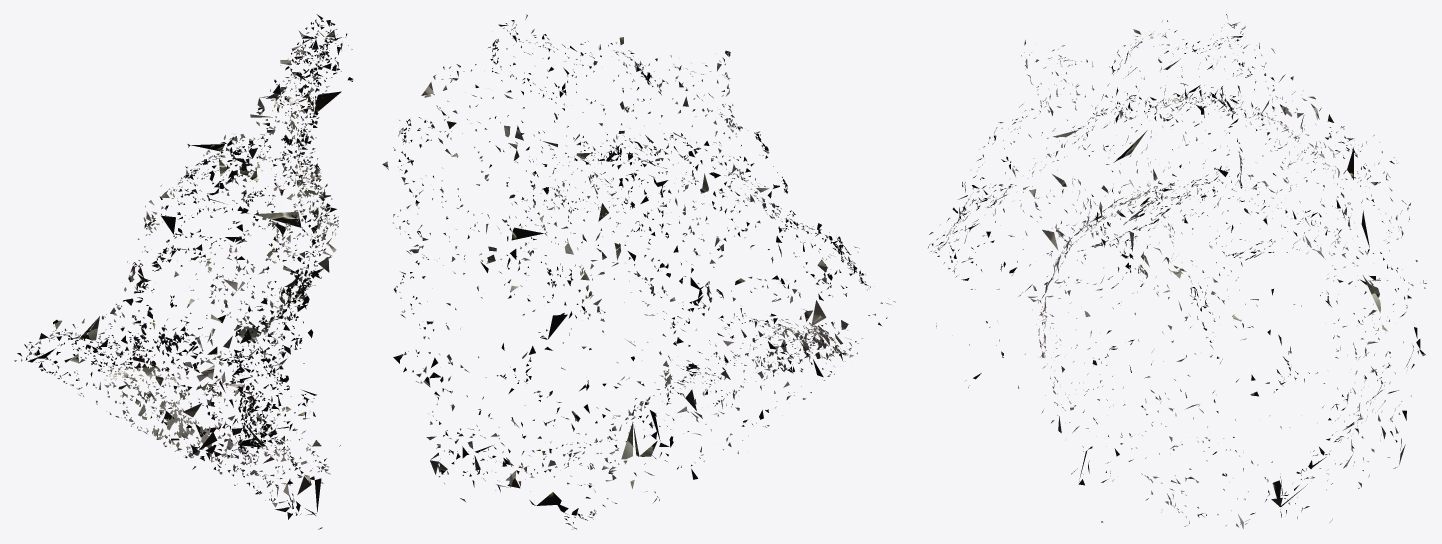
The picture shows the model from 3 angles, left to right: view 1: azimuth 30°, elevation 25°; view 2: azimuth 150°, elevation 25°; view 3: azimuth 270°, elevation 25°; orthographic projection. The views are drawn at different scales.
Visible parts, largest first — view 1: test0; view 2: test0; view 3: test0.
Part boxes in pixels (bbox=[...]): test0: bbox=[14, 14, 353, 529]; test0: bbox=[382, 14, 895, 529]; test0: bbox=[928, 14, 1426, 528].
Size of the model in its own units: 1.17 by 1.46 by 1.23.
Materials: 1 (1 with a texture image).
